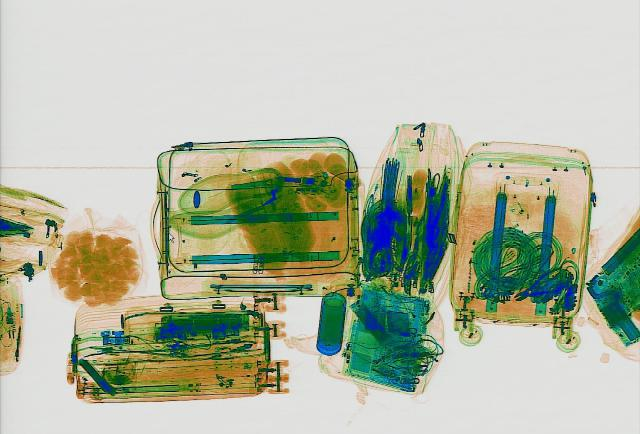Pliers: (505, 265, 577, 306)
